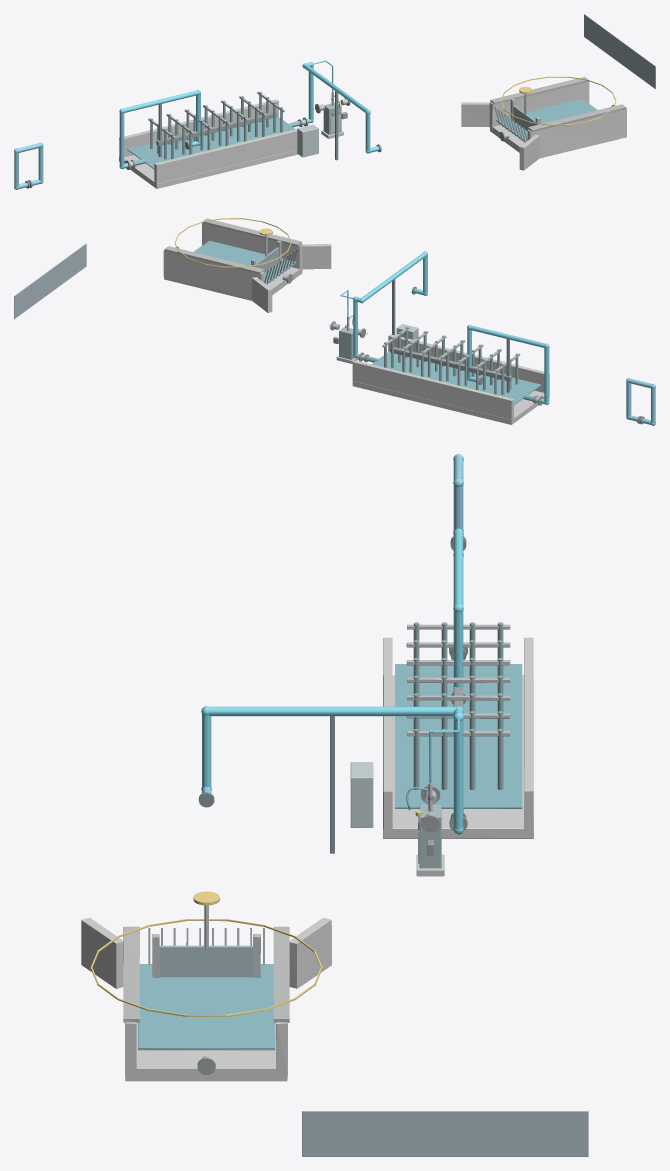
3 renders of one model, top to bottom at view 1: azimuth 30°, elevation 25°; view 2: azimuth 150°, elevation 25°; view 3: azimuth 270°, elevation 25°, orthographic. The views are drawn at different scales.
Parts seen in each view (by area): view 1: render-batch-11, render-batch-2, render-batch-3, render-batch-0, render-batch-7, render-batch-8, render-batch-5, render-batch-9, render-batch-10, render-batch-6, render-batch-4, render-batch-1 (+1 smaller); view 2: render-batch-11, render-batch-2, render-batch-3, render-batch-0, render-batch-7, render-batch-5, render-batch-8, render-batch-9, render-batch-6, render-batch-4, render-batch-1, render-batch-12; view 3: render-batch-2, render-batch-11, render-batch-7, render-batch-0, render-batch-9, render-batch-3, render-batch-6, render-batch-8, render-batch-12, render-batch-5, render-batch-10, render-batch-1.
Part boxes in pixels (x1,y1,x2,y2): render-batch-11: [119, 81, 626, 188]; render-batch-2: [127, 95, 596, 169]; render-batch-3: [150, 92, 339, 159]; render-batch-0: [119, 60, 379, 169]; render-batch-7: [584, 14, 655, 89]; render-batch-8: [490, 76, 626, 131]; render-batch-5: [125, 98, 615, 169]; render-batch-9: [130, 91, 540, 167]; render-batch-10: [297, 115, 340, 157]; render-batch-6: [323, 102, 535, 134]; render-batch-4: [14, 142, 43, 189]; render-batch-1: [25, 91, 381, 188]; render-batch-11: [163, 223, 549, 424]; render-batch-2: [194, 240, 541, 404]; render-batch-3: [384, 326, 518, 394]; render-batch-0: [340, 251, 549, 404]; render-batch-7: [14, 243, 86, 319]; render-batch-5: [175, 246, 543, 405]; render-batch-8: [164, 218, 301, 274]; render-batch-9: [251, 235, 538, 402]; render-batch-6: [256, 247, 353, 359]; render-batch-4: [626, 378, 655, 425]; render-batch-1: [347, 279, 644, 424]; render-batch-12: [174, 218, 346, 327]; render-batch-2: [138, 656, 522, 1050]; render-batch-11: [81, 637, 533, 1081]; render-batch-7: [302, 1111, 588, 1156]; render-batch-0: [201, 528, 463, 834]; render-batch-9: [152, 624, 510, 1058]; render-batch-3: [413, 622, 503, 830]; render-batch-6: [159, 804, 441, 977]; render-batch-8: [123, 926, 289, 1022]; render-batch-12: [90, 810, 421, 1016]; render-batch-5: [148, 647, 468, 1074]; render-batch-10: [350, 762, 419, 863]; render-batch-1: [198, 536, 466, 853].
Size of the model in its own units: 49.72 by 5.76 by 18.12.
